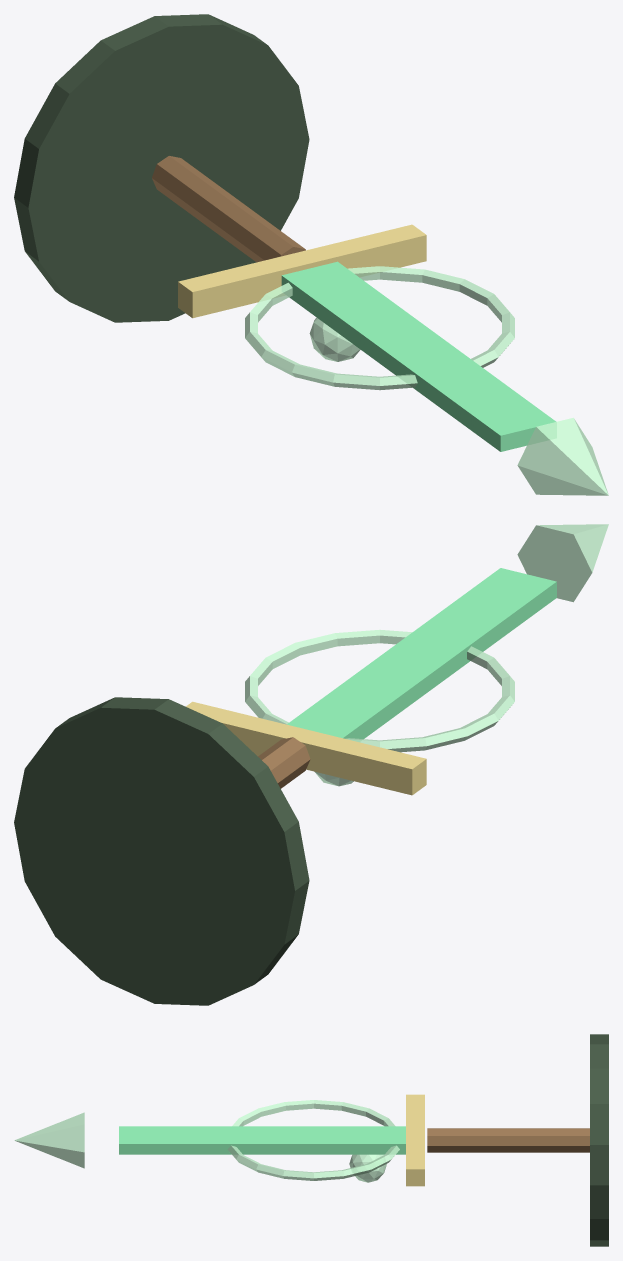
Rendered from 03_high_tier_magic_weapon.glb.
The picture shows the model from 3 angles, top to bottom: view 1: azimuth 30°, elevation 25°; view 2: azimuth 150°, elevation 25°; view 3: azimuth 270°, elevation 25°; orthographic projection. The views are drawn at different scales.
Parts seen in each view (by area): view 1: weapon_display_base, magic_blade_or_staff_core, relic_guard, weapon_aura_ring, weapon_grip, weapon_tip, socketed_gem; view 2: weapon_display_base, magic_blade_or_staff_core, relic_guard, weapon_aura_ring, weapon_tip, weapon_grip; view 3: magic_blade_or_staff_core, weapon_grip, weapon_display_base, weapon_aura_ring, weapon_tip, relic_guard, socketed_gem.
Boxes of the visible parts, x1,y1,x2,y2 form: weapon_display_base: [14, 14, 309, 322]; magic_blade_or_staff_core: [281, 261, 556, 451]; relic_guard: [178, 224, 426, 318]; weapon_aura_ring: [245, 266, 514, 390]; weapon_grip: [152, 156, 305, 262]; weapon_tip: [517, 417, 608, 495]; socketed_gem: [309, 317, 360, 361]; weapon_display_base: [14, 697, 309, 1005]; magic_blade_or_staff_core: [287, 568, 556, 741]; relic_guard: [186, 701, 426, 795]; weapon_aura_ring: [245, 629, 514, 752]; weapon_tip: [517, 524, 608, 602]; weapon_grip: [258, 737, 310, 788]; magic_blade_or_staff_core: [119, 1126, 405, 1154]; weapon_grip: [427, 1128, 589, 1152]; weapon_display_base: [590, 1034, 608, 1246]; weapon_aura_ring: [227, 1100, 399, 1180]; weapon_tip: [14, 1112, 84, 1168]; relic_guard: [406, 1094, 424, 1186]; socketed_gem: [349, 1154, 386, 1182].
Size of the model in its own units: 0.9 by 0.9 by 2.52.
